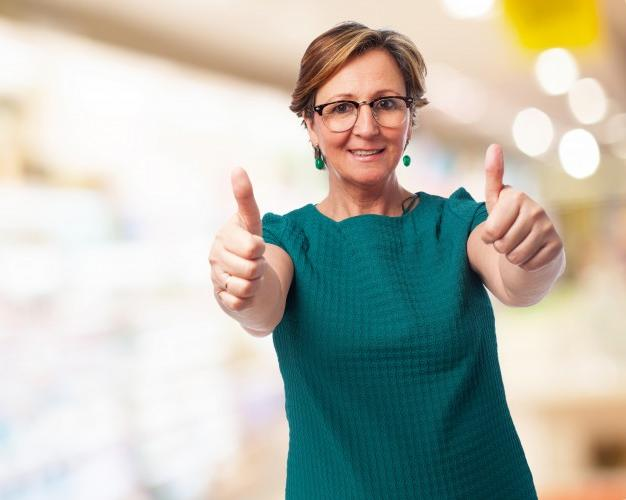thumbsup: (479, 143, 564, 272), (208, 166, 266, 312)
